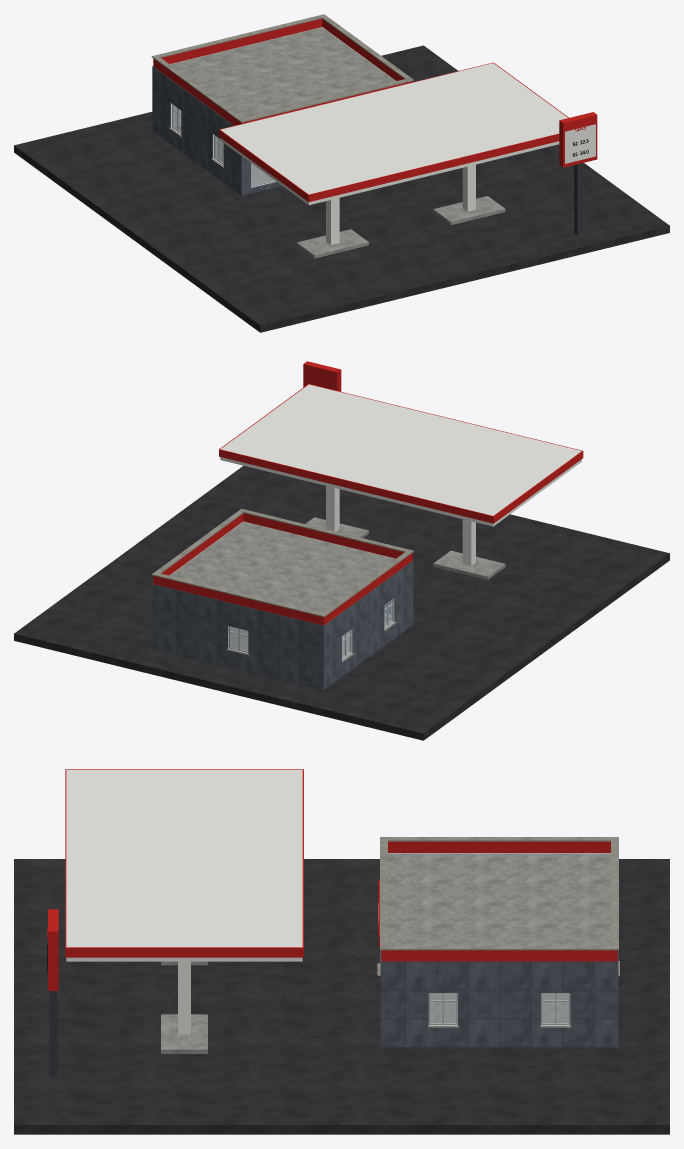
The model's file is b_gas_station.gltf.
The picture shows the model from 3 angles, top to bottom: view 1: azimuth 30°, elevation 25°; view 2: azimuth 150°, elevation 25°; view 3: azimuth 270°, elevation 25°; orthographic projection. The views are drawn at different scales.
Parts seen in each view (by area): view 1: S_gas_station; view 2: S_gas_station; view 3: S_gas_station.
Boxes of the visible parts, x1,y1,x2,y2 form: S_gas_station: (14,14,669,332); S_gas_station: (14,361,669,740); S_gas_station: (14,769,669,1134).
Bounding box in the file's own units: 24 × 6.9 × 25.
Materials: 16 (7 with a texture image).
